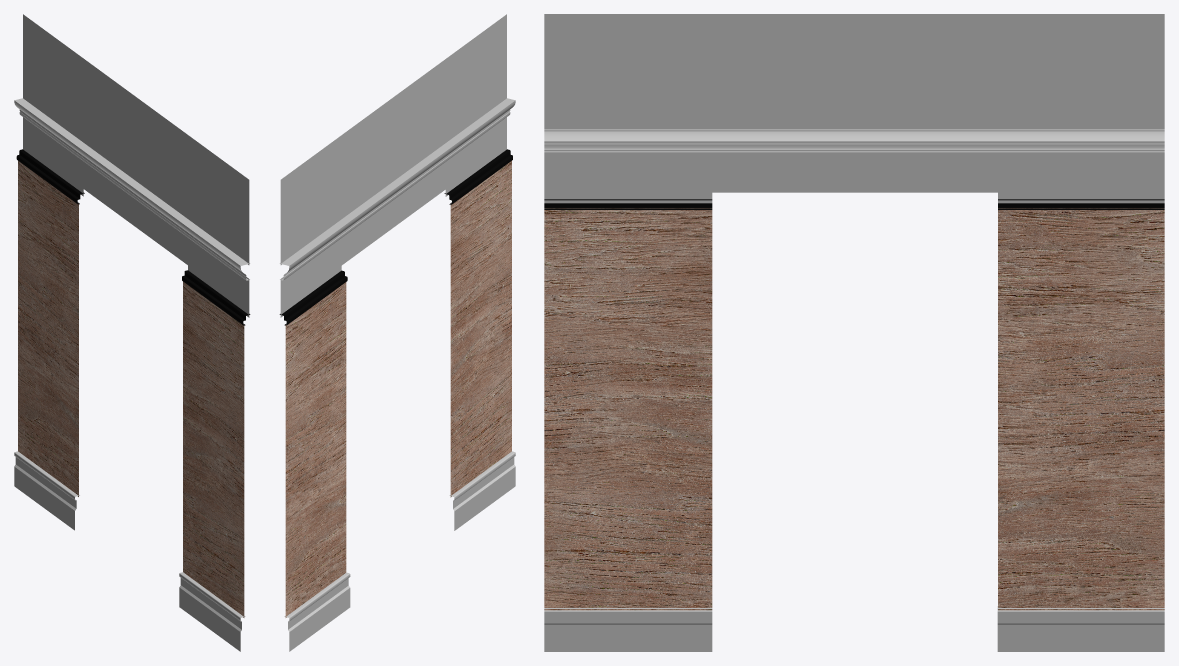
The model's file is BasementWallBathroom_Door.fbx.
3 renders of one model, left to right at view 1: azimuth 30°, elevation 25°; view 2: azimuth 150°, elevation 25°; view 3: azimuth 270°, elevation 25°, orthographic. The views are drawn at different scales.
Parts seen in each view (by area): view 1: Basement_Wall_Bathroom_Door; view 2: Basement_Wall_Bathroom_Door; view 3: Basement_Wall_Bathroom_Door.
Boxes of the visible parts, box(x1,y1,x2,y2) form: Basement_Wall_Bathroom_Door: box(14, 14, 250, 651); Basement_Wall_Bathroom_Door: box(279, 14, 515, 651); Basement_Wall_Bathroom_Door: box(544, 14, 1164, 651).
Size of the model in its own units: 0.1039 by 4.58 by 4.
